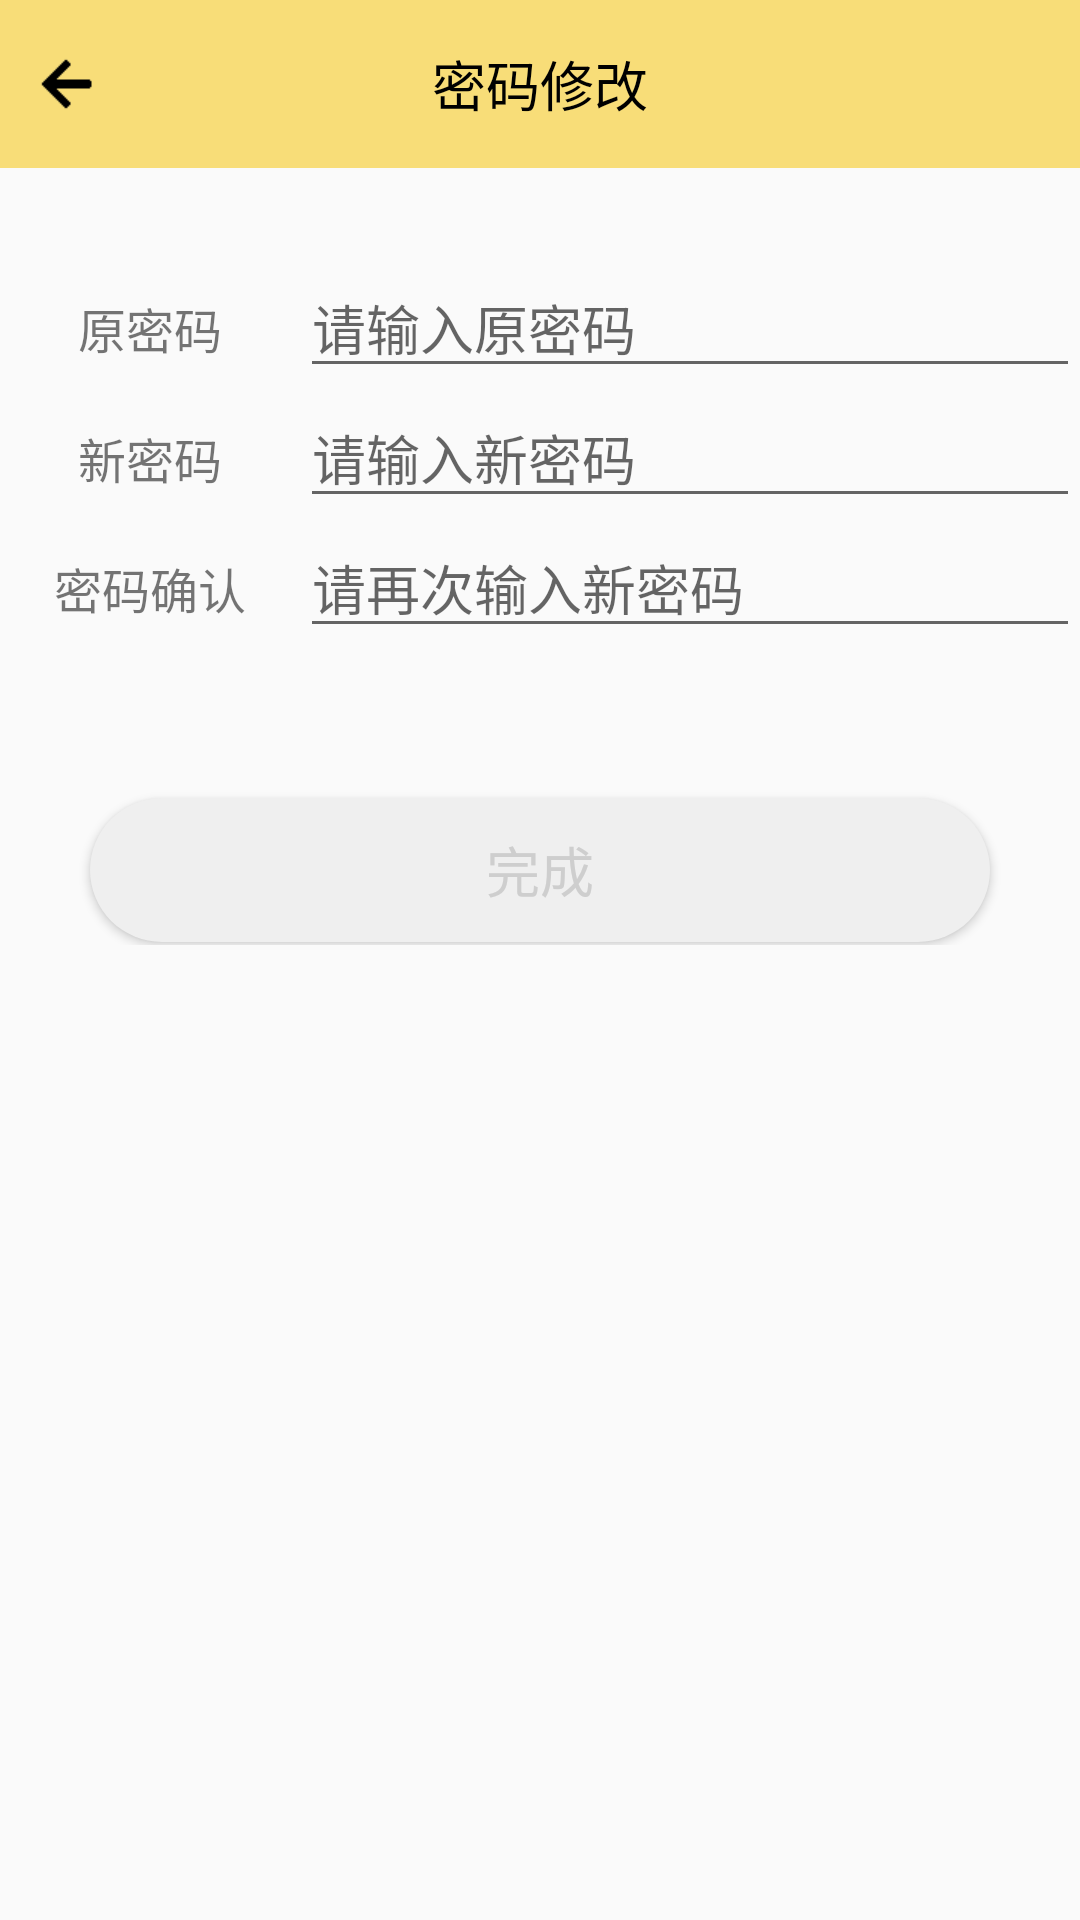

Icon bounding boxes for this 1080 x 1920 phone screenshot, format (x1, y1, x2, y2):
back: (41, 59, 92, 109)
